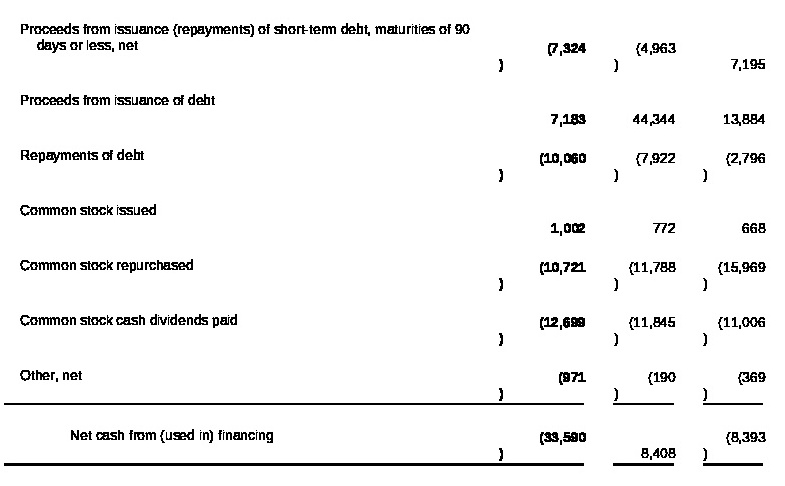table: (0, 0, 785, 486)
